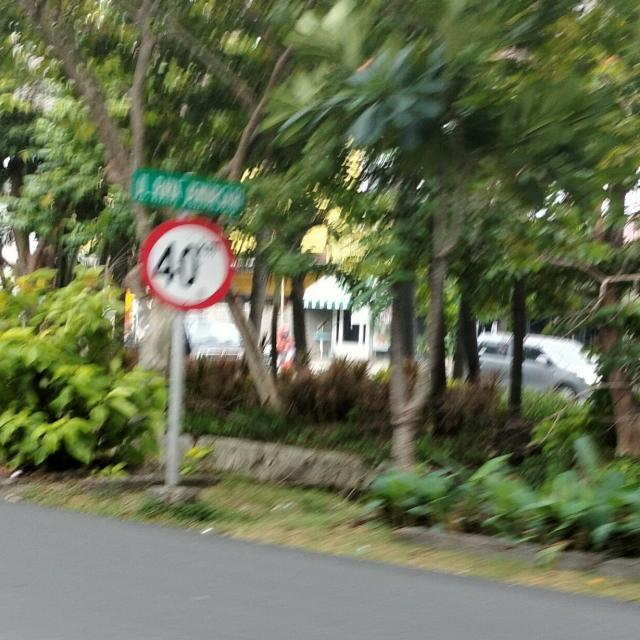Kecepatan Maks. 40 km: (138, 214, 236, 310)
